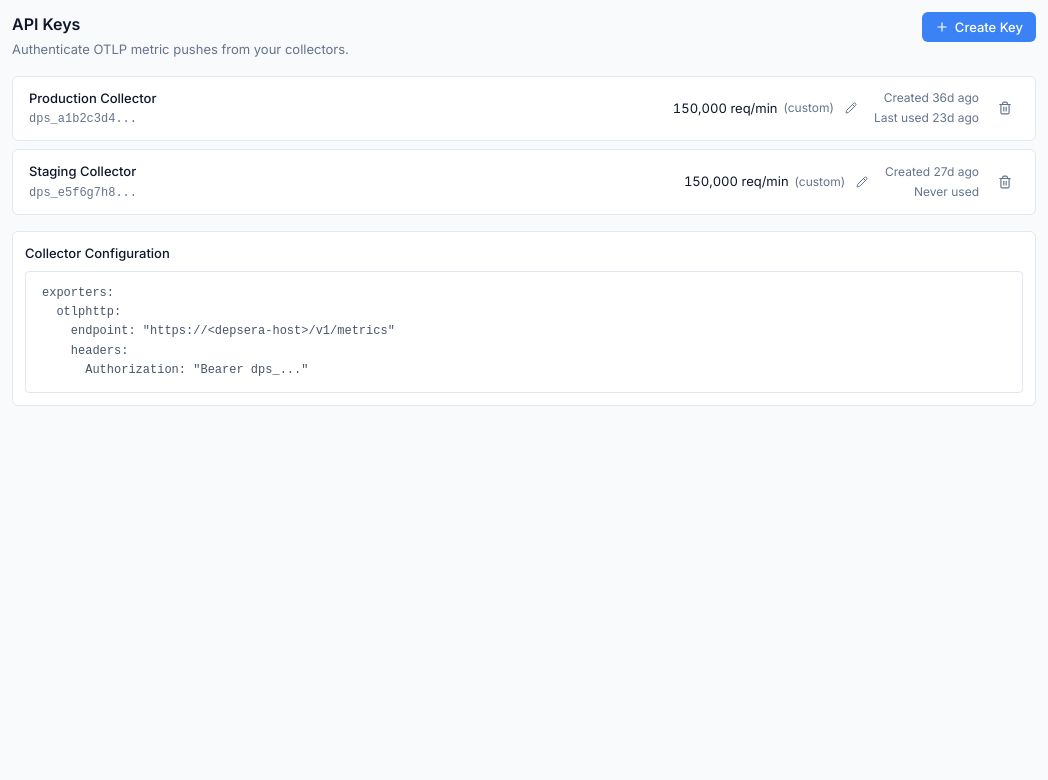
it: ApiKeys › create shows raw key once with copy button
Expected: the text "Production Collector" is shown, [29, 90, 156, 106]
// Click create button
Click the button "Create Key" at [979, 27], box [922, 12, 1036, 42]
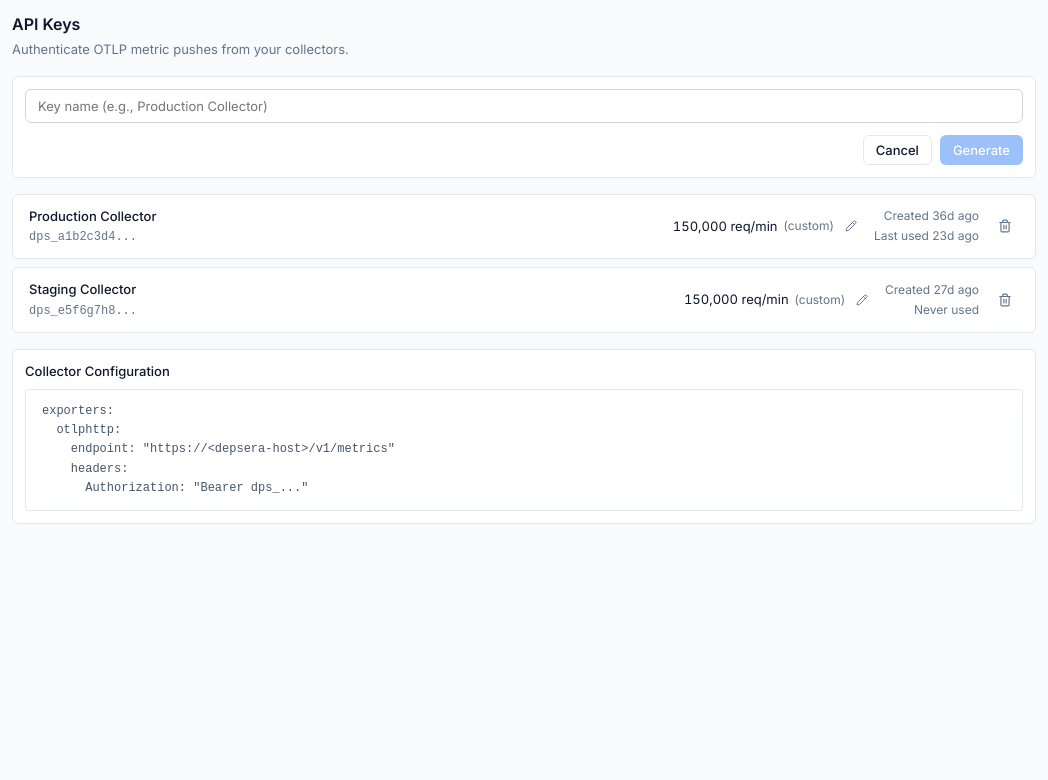
// Fill name and generate
Type "New Key" into the field with placeholder "Key name (e.g., Production Collector)" at [524, 106], box [25, 88, 1023, 122]
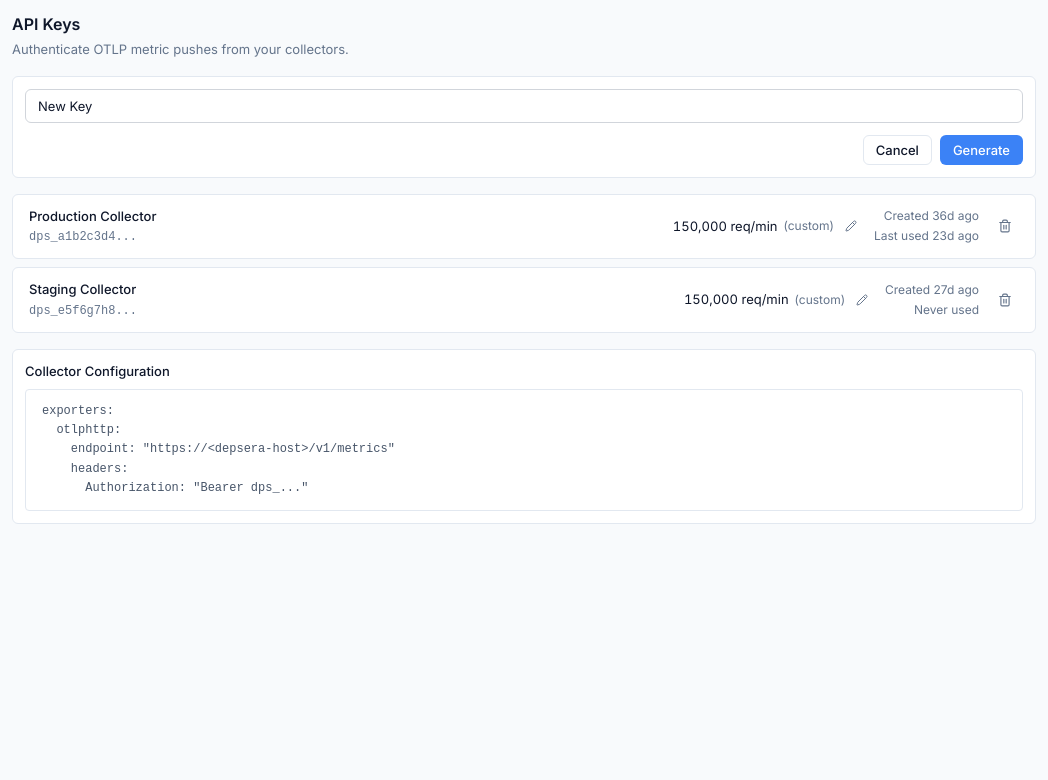
Click the button "Generate" at [981, 150], box [940, 134, 1023, 164]
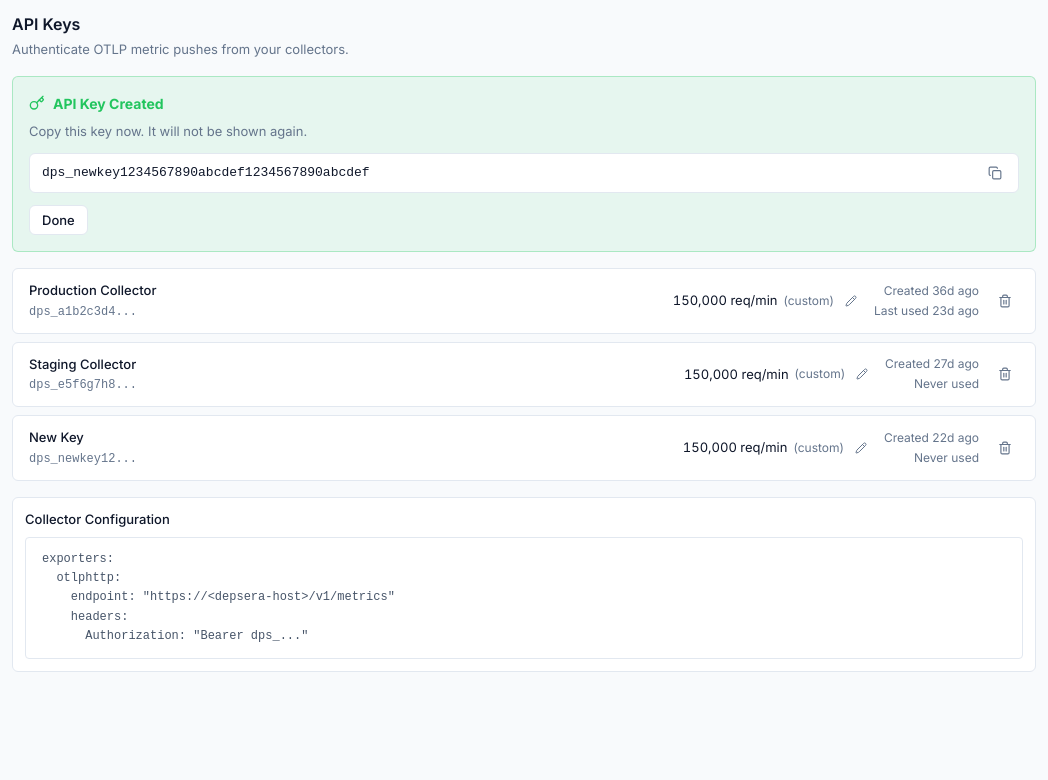
Expected: the text "API Key Created" is shown, [53, 92, 164, 114]
Expected: the text "dps_newkey1234567890abcdef1234567890abcdef" is shown, [42, 165, 370, 180]
Expected: the text "Copy this key now. It will not be shown again." is shown, [29, 122, 307, 138]
